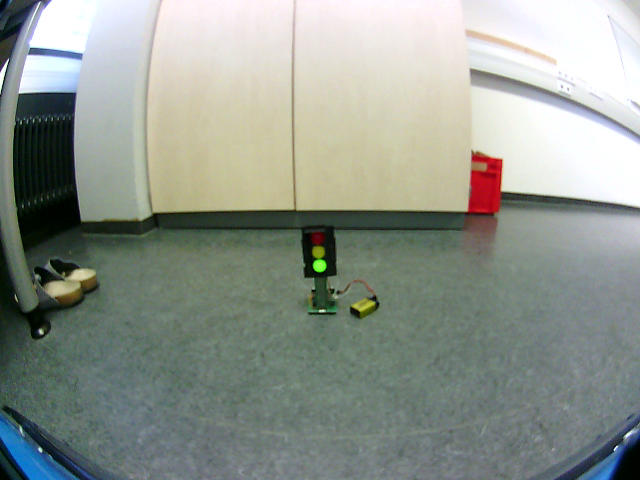green trafficlight: (305, 229, 333, 275)
